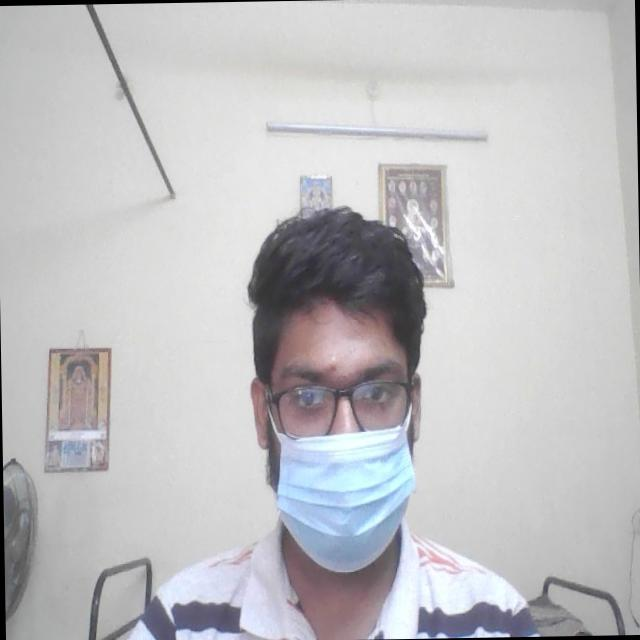Focused: (266, 352, 414, 534)
